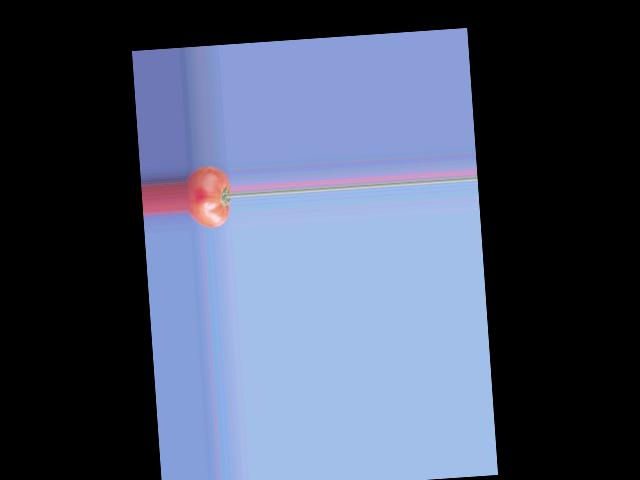tomato: (184, 164, 233, 228)
